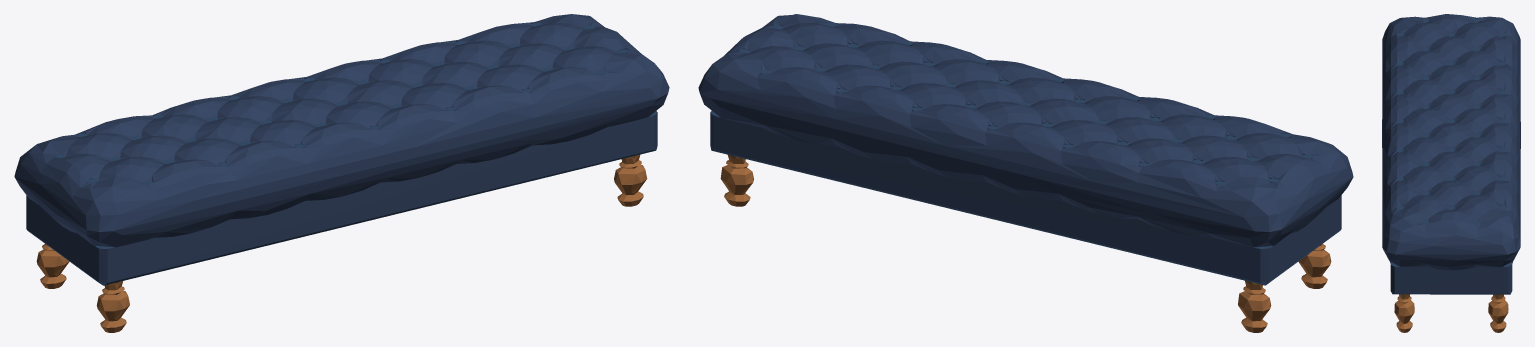
Rendered from couch.fbx.
3 views of the same model, side by side, from view 1: azimuth 30°, elevation 25°; view 2: azimuth 150°, elevation 25°; view 3: azimuth 270°, elevation 25° (orthographic). The views are drawn at different scales.
Parts seen in each view (by area): view 1: 23; view 2: 23; view 3: 23.
Part boxes in pixels (left/top/right/bottom): 23: left=14, top=14, right=669, bottom=332; 23: left=698, top=14, right=1353, bottom=332; 23: left=1382, top=14, right=1520, bottom=332.
Bounding box in the file's own units: 378 × 92.83 × 99.64.
